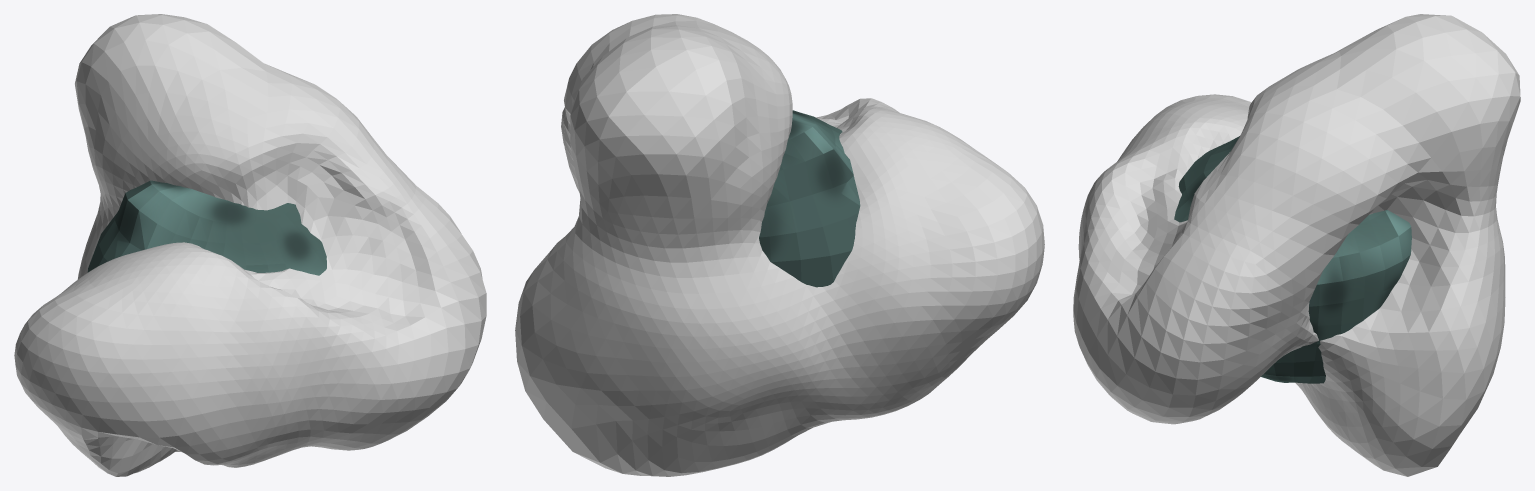
The model's file is asteroid test.gltf.
The picture shows the model from 3 angles, left to right: view 1: azimuth 30°, elevation 25°; view 2: azimuth 150°, elevation 25°; view 3: azimuth 270°, elevation 25°; orthographic projection. The views are drawn at different scales.
Visible parts, largest first — view 1: Asteroid2, Asteroid1; view 2: Asteroid2, Asteroid1; view 3: Asteroid2, Asteroid1.
Boxes of the visible parts, left/top/right/bottom form: Asteroid2: left=14, top=14, right=486, bottom=476; Asteroid1: left=87, top=180, right=326, bottom=275; Asteroid2: left=515, top=14, right=1044, bottom=476; Asteroid1: left=759, top=110, right=860, bottom=287; Asteroid2: left=1073, top=14, right=1520, bottom=476; Asteroid1: left=1174, top=136, right=1411, bottom=383.
Bounding box in the file's own units: 4.23 × 3.81 × 3.68.
Materials: 1 (1 with a texture image).
